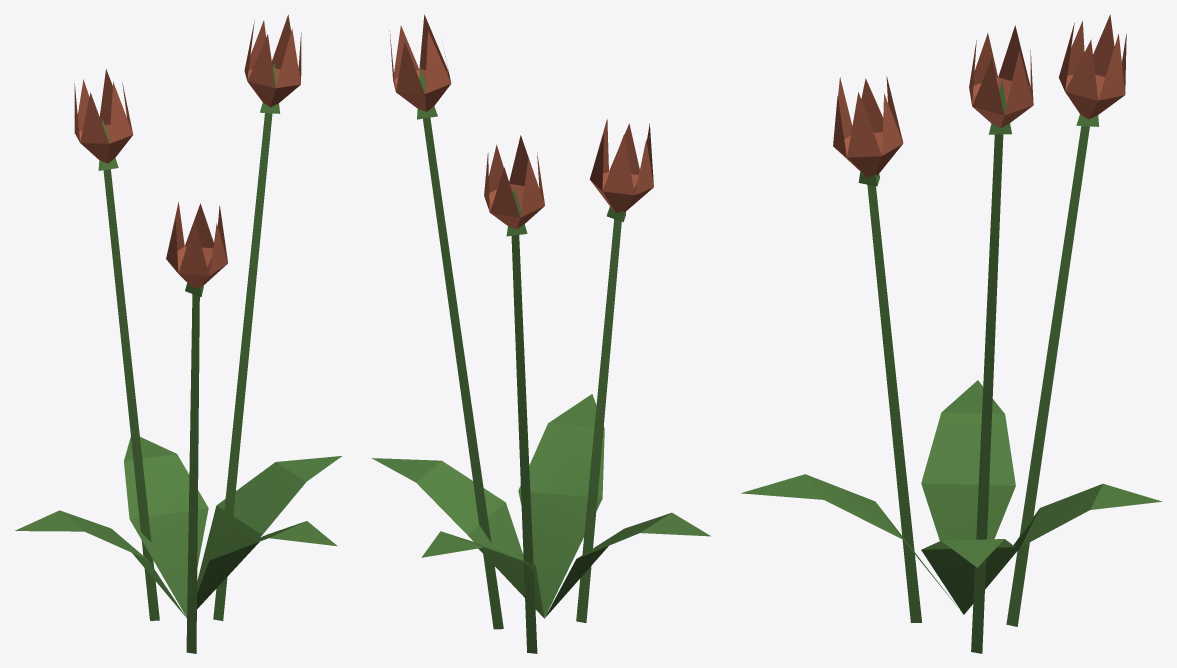
The model's file is tulip.glb.
3 renders of one model, left to right at view 1: azimuth 30°, elevation 25°; view 2: azimuth 150°, elevation 25°; view 3: azimuth 270°, elevation 25°, orthographic. The views are drawn at different scales.
Parts seen in each view (by area): view 1: tulip; view 2: tulip; view 3: tulip.
Boxes of the visible parts, left/top/right/bottom form: tulip: left=15, top=14, right=341, bottom=653; tulip: left=371, top=14, right=710, bottom=653; tulip: left=741, top=14, right=1161, bottom=653.
Size of the model in its own units: 0.2544 by 0.4265 by 0.249.
